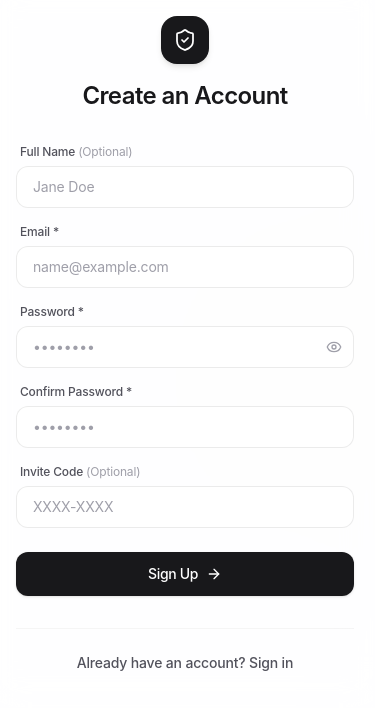
Test: RegisterPage › shows validation message for mismatched passwords
The image size is (375, 708).
In the field with placeholder "name@example.com": (185, 267) [16,246,354,288], type "test@example.com"
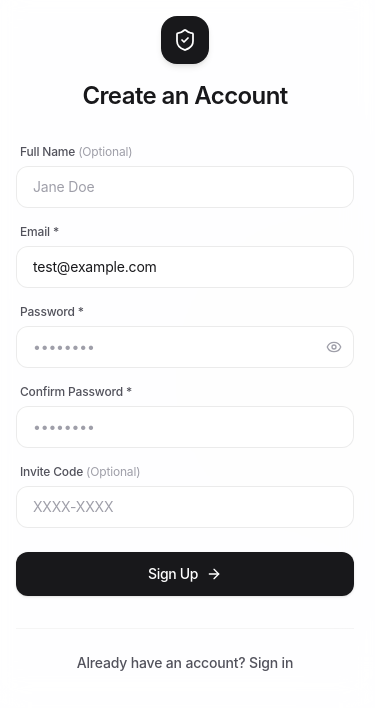
In the password field with placeholder "••••••••": (185, 347) [16,326,354,368], type "Password123!"
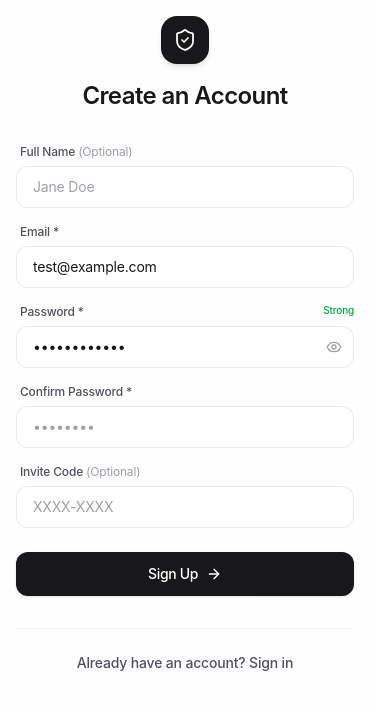
In the password field with placeholder "••••••••": (185, 427) [16,406,354,448], type "Password123"
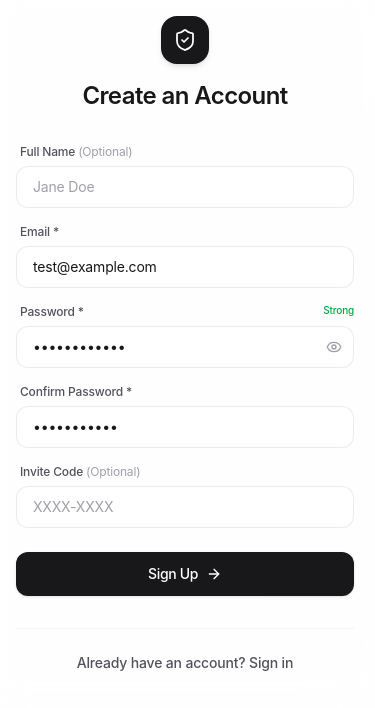
Click the button "Sign Up": click(185, 574) [16,552,354,596]
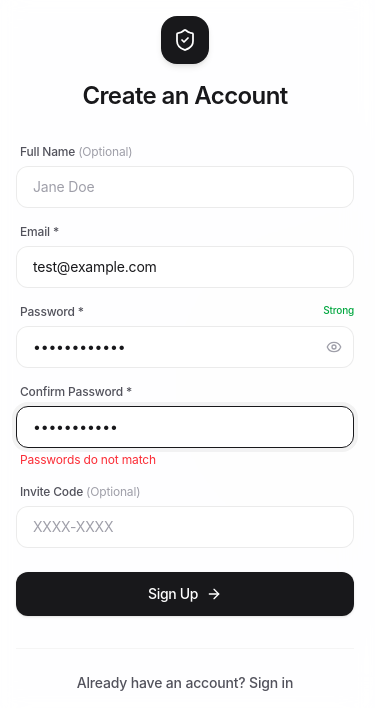
expect the text "Passwords do not match" is shown: met, box [20,452,156,467]
